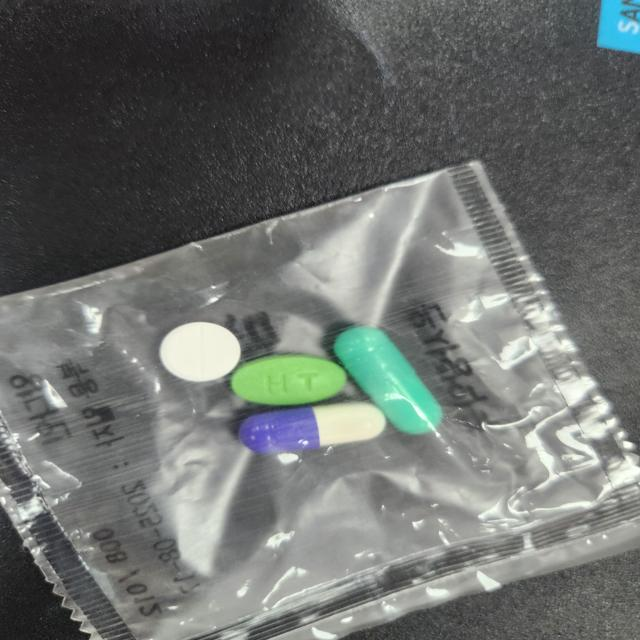러키펜정: (158, 322, 243, 385)
씨엠지세파클러캡슐: (235, 400, 387, 456)
에르도캡슐: (325, 325, 444, 438)
휴티렌정: (231, 356, 349, 409)
